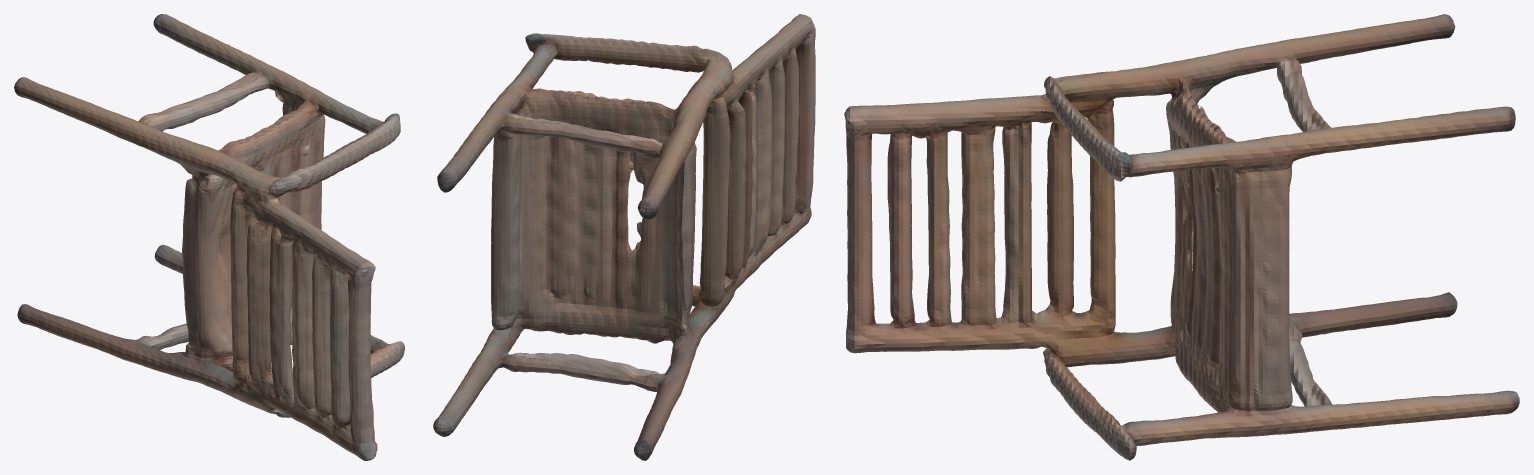
3 views of the same model, side by side, from view 1: azimuth 30°, elevation 25°; view 2: azimuth 150°, elevation 25°; view 3: azimuth 270°, elevation 25° (orthographic). The views are drawn at different scales.
Parts seen in each view (by area): view 1: world; view 2: world; view 3: world.
Boxes of the visible parts, bbox=[...] form: world: bbox=[14, 14, 404, 460]; world: bbox=[433, 14, 815, 460]; world: bbox=[844, 14, 1519, 460].
Bounding box in the file's own units: 0.5599 × 0.52 × 1.04.
